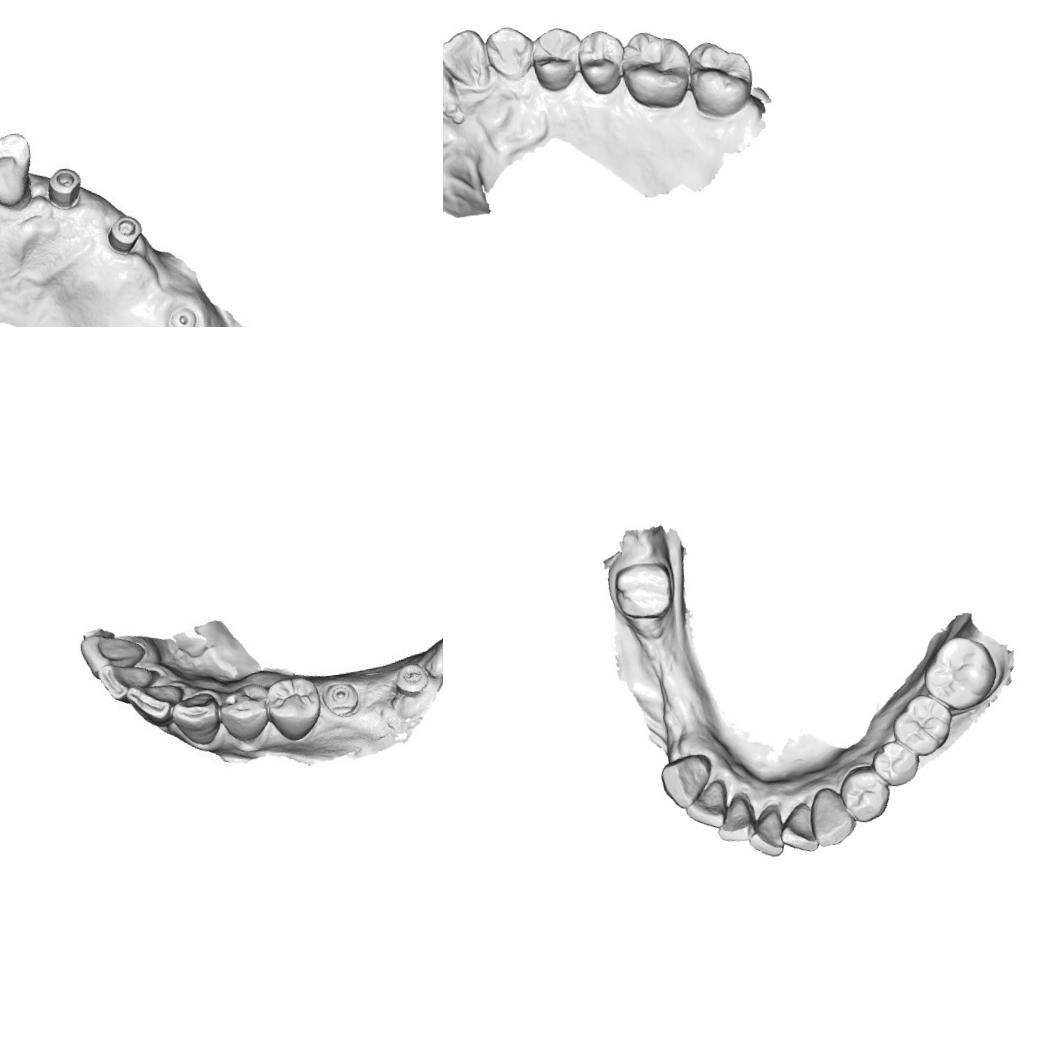canine: (657, 751, 717, 812), (806, 783, 858, 849), (484, 23, 536, 86), (172, 694, 220, 748)
crown: (609, 558, 676, 623)
implant: (43, 162, 84, 212), (105, 210, 145, 256), (319, 680, 360, 715), (395, 659, 426, 704), (165, 303, 200, 327)
incisor: (443, 25, 492, 96), (82, 629, 146, 679), (100, 660, 168, 704), (0, 130, 36, 212), (712, 790, 762, 846), (682, 777, 732, 832), (776, 799, 820, 856), (742, 806, 786, 861), (130, 683, 180, 722), (443, 44, 460, 113)
molar: (919, 632, 1002, 716), (616, 26, 694, 115), (686, 36, 758, 121), (887, 689, 956, 760)
premolar: (528, 24, 586, 93), (216, 679, 274, 748), (574, 27, 630, 98), (835, 762, 894, 826), (263, 677, 322, 739), (869, 736, 922, 790)
